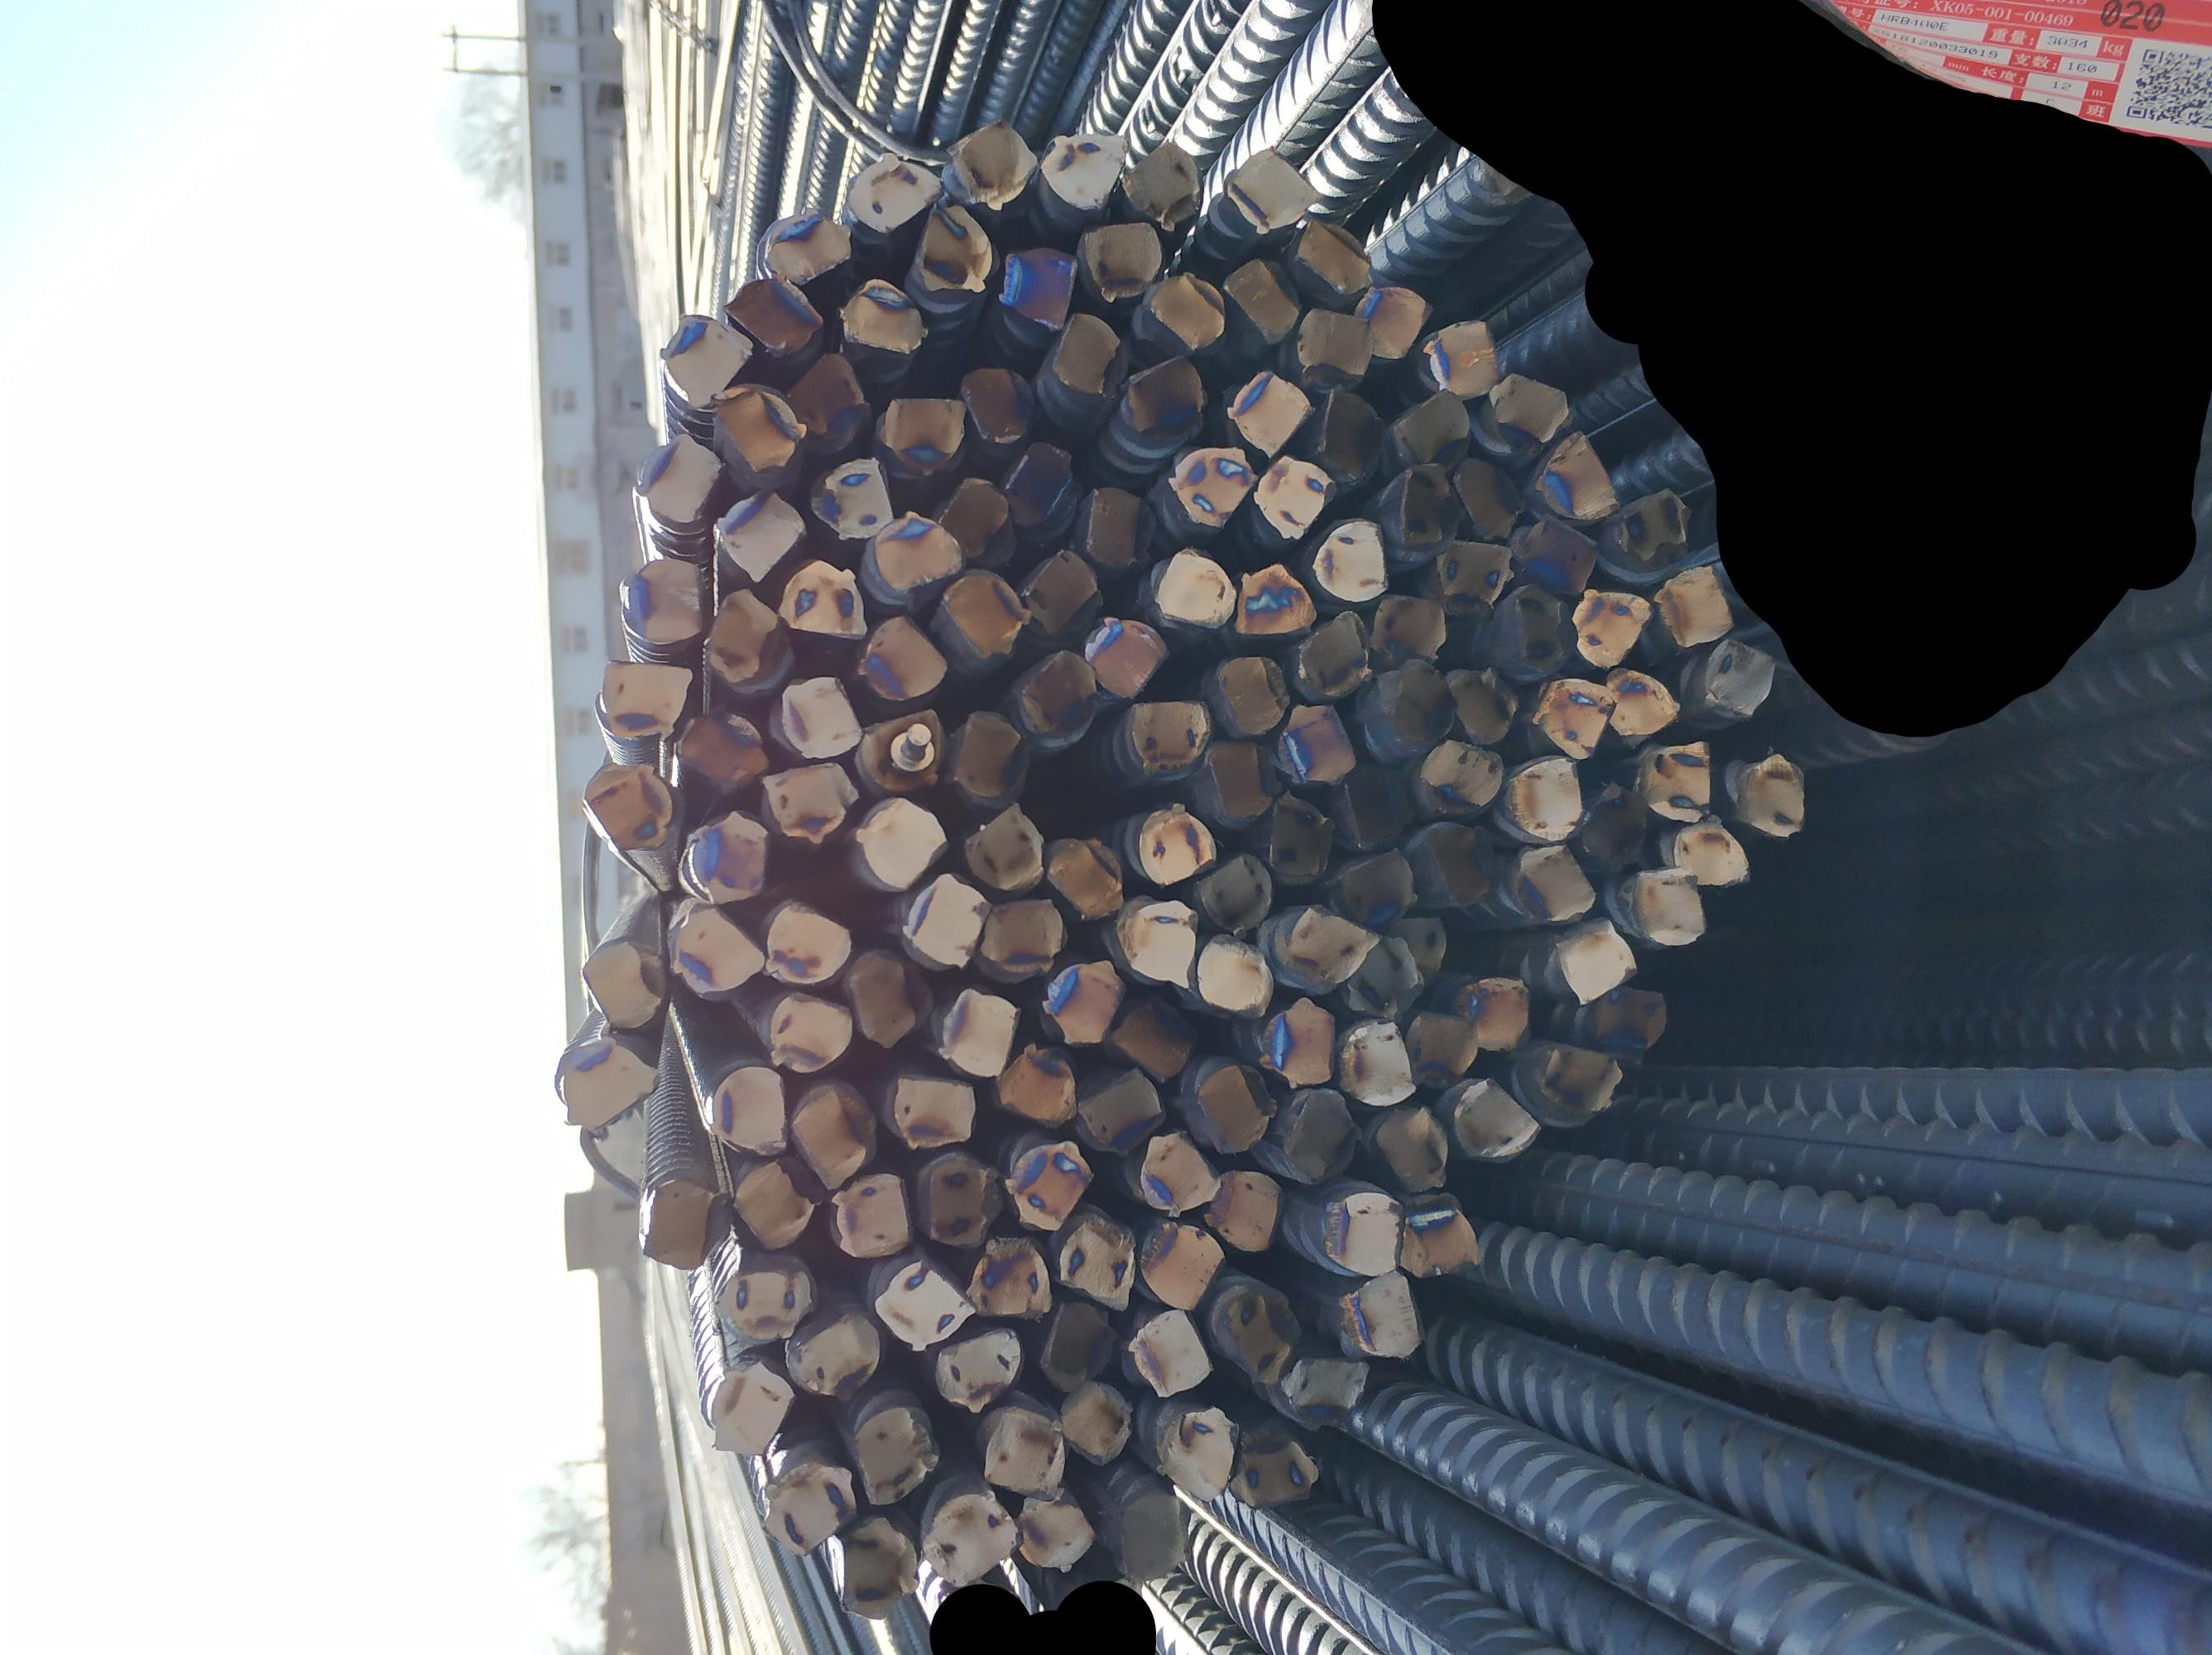bar: (787, 1080, 881, 1196), (756, 1457, 860, 1556), (825, 1514, 923, 1620), (556, 1034, 662, 1130), (1263, 901, 1380, 987), (871, 1257, 975, 1353), (919, 1490, 1018, 1589), (667, 901, 765, 1000), (659, 309, 756, 409), (1003, 1133, 1098, 1234), (895, 867, 987, 972), (714, 482, 805, 588), (853, 794, 949, 894), (780, 351, 871, 455), (697, 591, 787, 695), (843, 946, 933, 1047), (707, 379, 803, 473), (1223, 144, 1322, 235), (758, 758, 858, 845), (841, 151, 944, 236), (853, 1403, 937, 1507), (1395, 1189, 1487, 1283), (1034, 956, 1129, 1047), (1164, 440, 1260, 530), (785, 1313, 884, 1399), (711, 1358, 796, 1459), (719, 275, 820, 360), (681, 810, 773, 902), (579, 758, 671, 850), (700, 1062, 791, 1156), (631, 429, 721, 523), (775, 673, 871, 761), (1222, 363, 1310, 459), (937, 980, 1022, 1080), (1213, 1283, 1298, 1382), (1123, 1306, 1213, 1398), (857, 610, 947, 702), (1136, 1217, 1225, 1311), (730, 1156, 817, 1252), (980, 1403, 1065, 1500), (1036, 1299, 1121, 1396), (930, 1323, 1020, 1413), (619, 555, 709, 645), (761, 897, 853, 986), (1550, 914, 1639, 1007), (949, 116, 1036, 210), (599, 657, 695, 742), (1055, 1213, 1135, 1314), (676, 708, 768, 794), (945, 567, 1032, 659), (1194, 1062, 1279, 1156), (1156, 1405, 1239, 1500), (638, 1173, 719, 1271), (1079, 1066, 1168, 1154), (580, 940, 667, 1031), (961, 801, 1048, 892), (961, 1236, 1053, 1321), (1279, 1090, 1359, 1187), (714, 1267, 815, 1344), (1251, 450, 1336, 541), (1451, 1078, 1541, 1163), (778, 560, 871, 643), (1084, 610, 1168, 702), (858, 708, 947, 793), (1123, 137, 1206, 228), (1538, 428, 1619, 520), (1018, 645, 1098, 739), (1373, 655, 1453, 749), (1123, 897, 1199, 994), (1112, 996, 1199, 1081), (1135, 798, 1220, 885), (1147, 544, 1234, 629), (1338, 1269, 1423, 1356), (1136, 1128, 1225, 1212), (766, 987, 855, 1071), (805, 454, 893, 537), (1037, 129, 1126, 212), (1533, 673, 1616, 761), (1046, 833, 1128, 923), (1117, 1490, 1190, 1591), (1527, 1038, 1623, 1114), (982, 894, 1067, 979), (881, 391, 968, 475), (1369, 1104, 1451, 1193), (994, 1040, 1074, 1130), (874, 508, 964, 588), (1505, 751, 1585, 841), (1573, 777, 1649, 871), (1569, 586, 1652, 671), (1202, 737, 1284, 824), (1022, 546, 1102, 635), (1581, 980, 1670, 1060), (759, 207, 850, 285), (1222, 254, 1300, 344), (1414, 737, 1507, 814), (1081, 221, 1164, 304), (1652, 563, 1736, 647), (997, 245, 1079, 330), (1310, 516, 1392, 602), (831, 1172, 911, 1259), (1343, 930, 1423, 1017), (1336, 1017, 1416, 1104), (1195, 848, 1274, 937), (1699, 633, 1778, 721), (1296, 607, 1373, 697), (917, 202, 990, 296), (1510, 579, 1583, 673), (1486, 369, 1569, 450), (1515, 840, 1600, 920), (1418, 819, 1496, 906), (1258, 996, 1334, 1085), (1229, 1432, 1317, 1509), (893, 1069, 975, 1151), (1145, 269, 1225, 353), (1331, 843, 1411, 927), (1206, 1166, 1284, 1252), (839, 278, 926, 355), (1216, 650, 1291, 739), (1644, 737, 1719, 826), (1124, 351, 1204, 433), (1672, 808, 1752, 890), (924, 1153, 994, 1246), (1423, 316, 1501, 400), (1279, 702, 1357, 786), (1741, 748, 1811, 841), (1326, 1189, 1404, 1273), (1050, 309, 1124, 396), (1230, 560, 1319, 633), (1282, 1353, 1371, 1426), (1126, 697, 1209, 774), (1522, 511, 1599, 595), (1338, 756, 1409, 845), (954, 708, 1023, 798), (1451, 975, 1531, 1053), (1192, 930, 1268, 1012), (1630, 864, 1706, 946), (1084, 482, 1156, 568), (1267, 791, 1334, 881), (1017, 1495, 1096, 1572), (1435, 534, 1515, 610), (1401, 1008, 1477, 1088), (1060, 1382, 1133, 1466), (1319, 386, 1381, 483), (1004, 438, 1076, 523), (1453, 452, 1522, 539), (1296, 217, 1373, 296), (1394, 388, 1470, 466), (1600, 662, 1679, 739), (938, 473, 1008, 558), (1352, 285, 1428, 362), (959, 365, 1034, 443), (1368, 591, 1447, 664), (1295, 302, 1373, 376), (1619, 483, 1691, 560), (1449, 664, 1515, 742), (1397, 459, 1453, 546), (1388, 909, 1447, 989)
